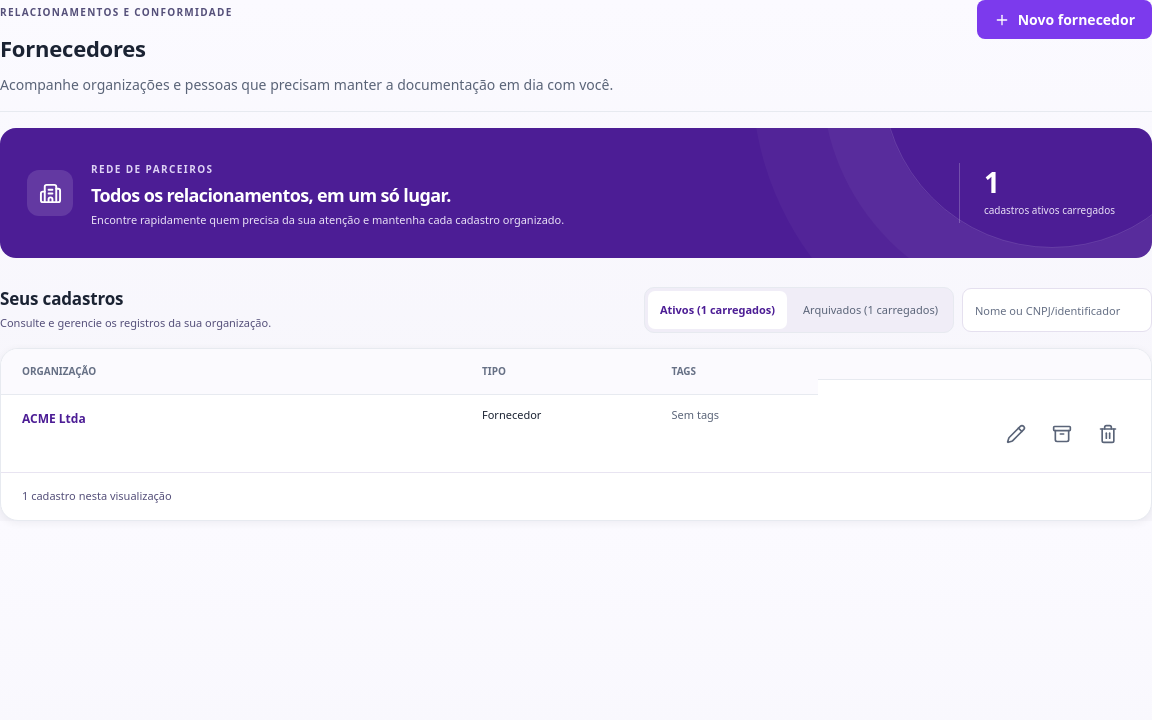
Scenario: SubjectsCollection › the row 'Editar' action opens the edit modal pre-filled with the subject's own data
Expected: the link "ACME Ltda" is shown, x1=22 y1=407 x2=86 y2=431
Click the button named "Editar ACME Ltda" at x=1016, y=434, box x1=994 y1=412 x2=1038 y2=456
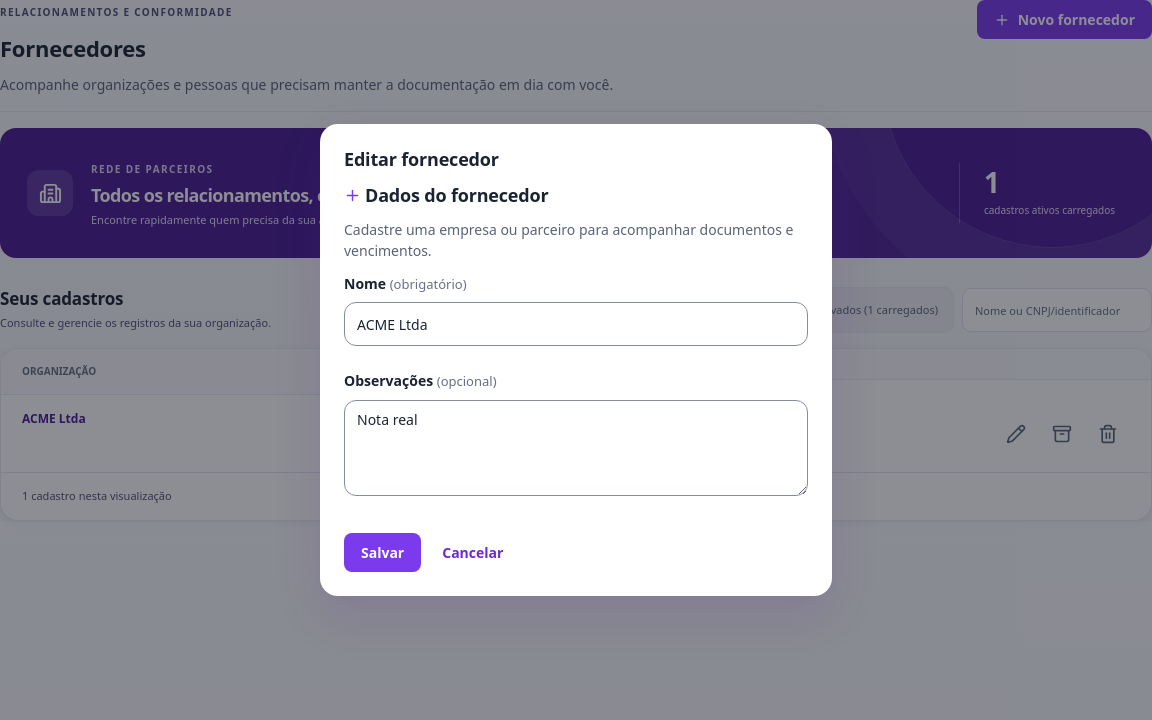
Now the dialog "Editar fornecedor" is shown, box x1=320 y1=124 x2=832 y2=596
Now the field labelled "Nome (obrigatório)" holds "ACME Ltda", box x1=344 y1=302 x2=808 y2=346
